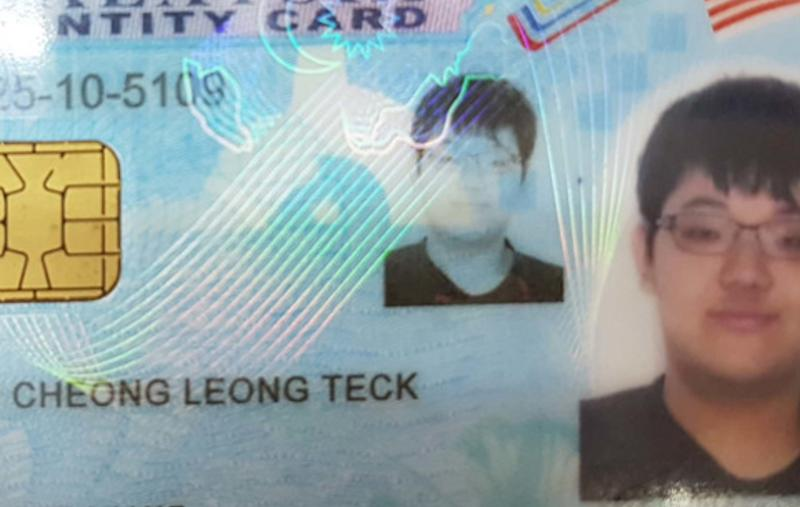hologram: (167, 161, 375, 362)
